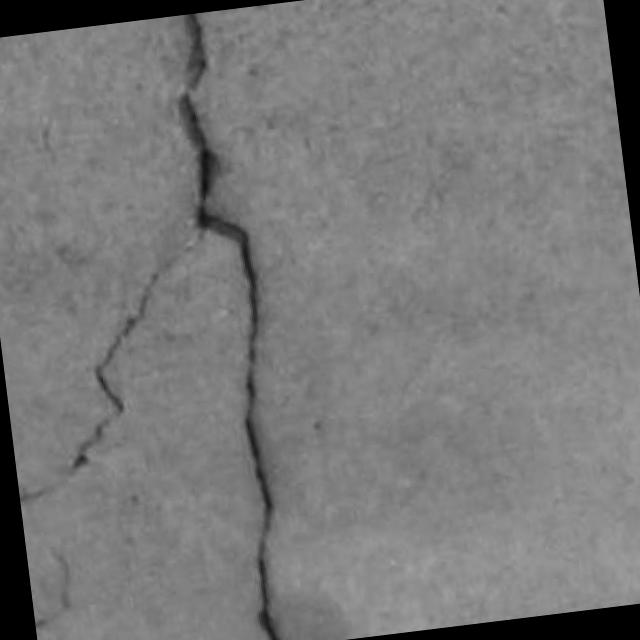crack: (19, 13, 280, 639), (178, 14, 280, 639), (70, 261, 175, 472), (184, 13, 206, 90)
